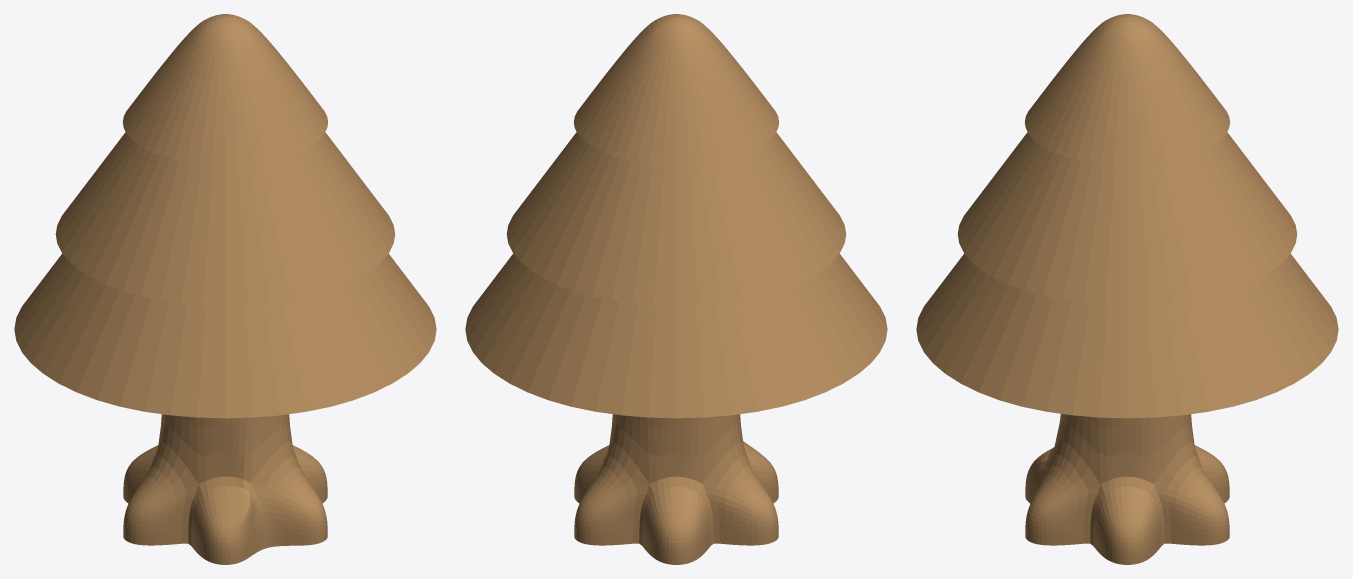
Rendered from PineTree.fbx.
3 renders of one model, left to right at view 1: azimuth 30°, elevation 25°; view 2: azimuth 150°, elevation 25°; view 3: azimuth 270°, elevation 25°, orthographic.
Parts seen in each view (by area): view 1: Tronco; view 2: Tronco; view 3: Tronco.
Boxes of the visible parts, x1=… form: Tronco: x1=14, y1=14, x2=436, y2=564; Tronco: x1=465, y1=14, x2=887, y2=564; Tronco: x1=916, y1=14, x2=1338, y2=564.
Bounding box in the file's own units: 577 × 756 × 580.
2 materials, 2 textured.
